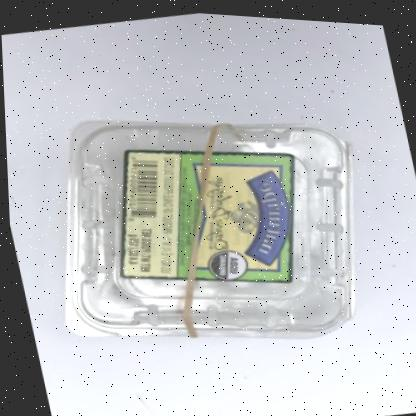Plastic: (62, 117, 351, 334)
